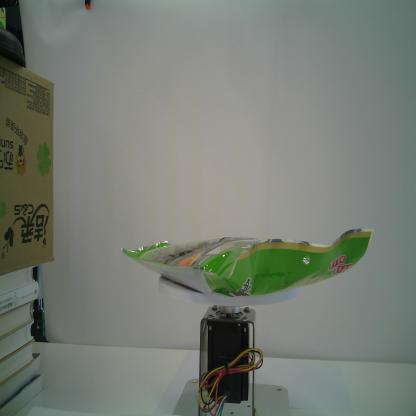Dried Food: (119, 227, 374, 299)
